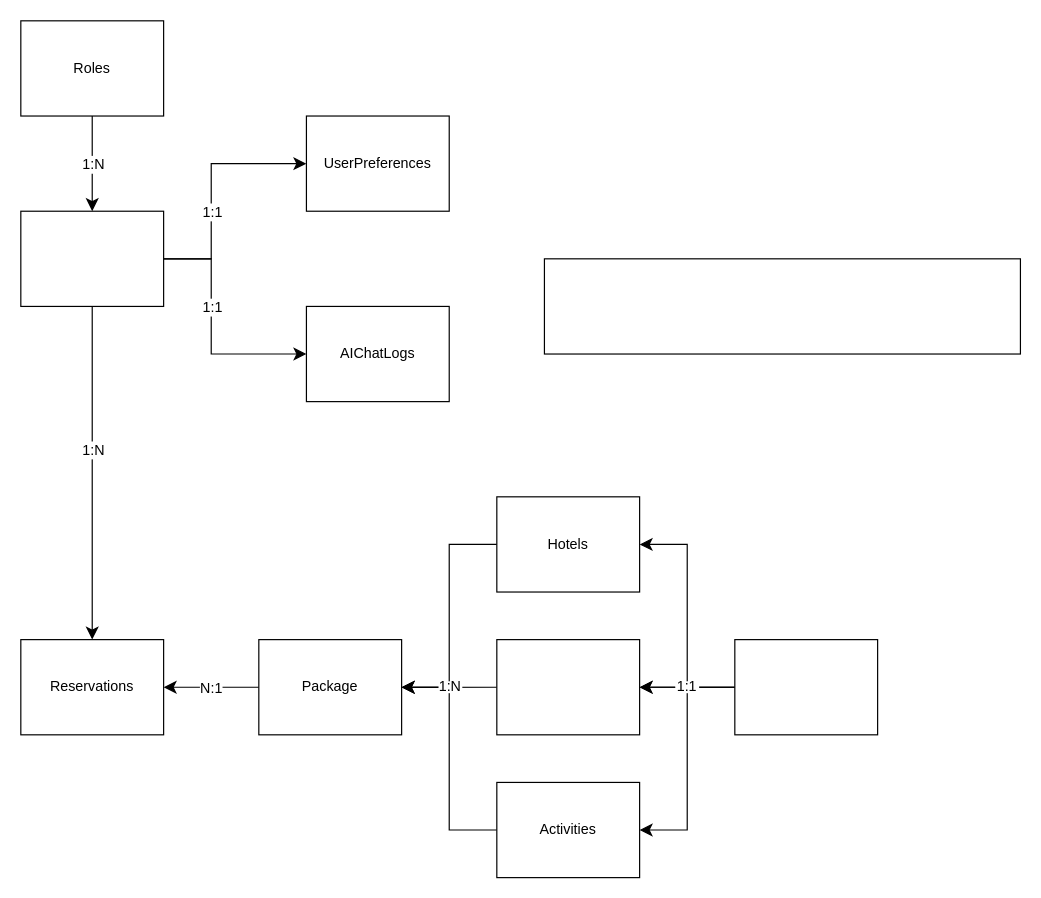
The diagram is 1041 pixels wide and 898 high, and some of its shapes have lost their labels. The centre of each missing label's shape, as x and y in pixels:
Flights: pixel 568 686
Locations: pixel 806 686
TRAVELAI Diagrama Entidad-Relación: pixel 781 306
Users: pixel 92 258
